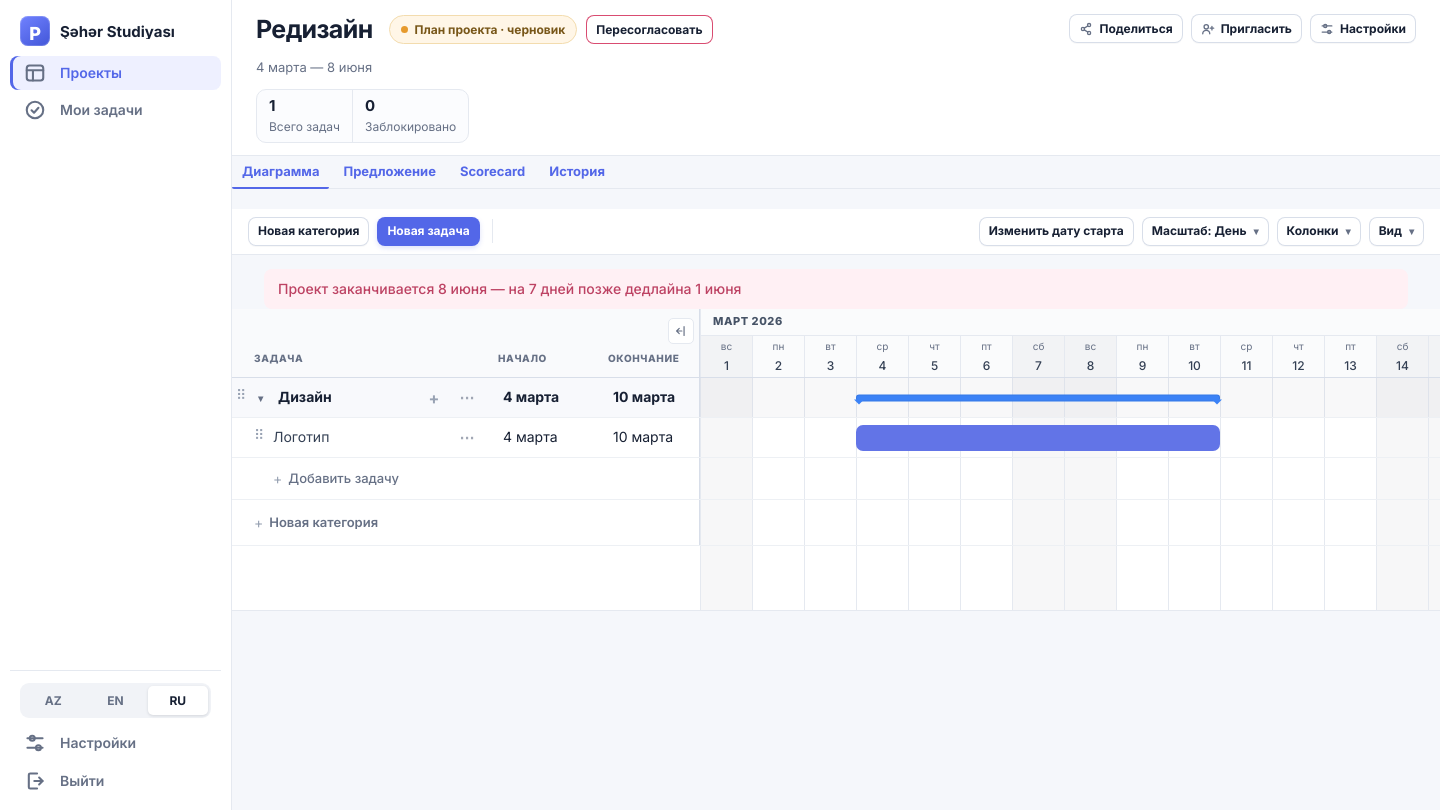
создание категории › отправляет операцию создания категории и обновляет диаграмму
The image size is (1440, 810).
Click the button "Новая категория": (309,231) [248,217,369,246]
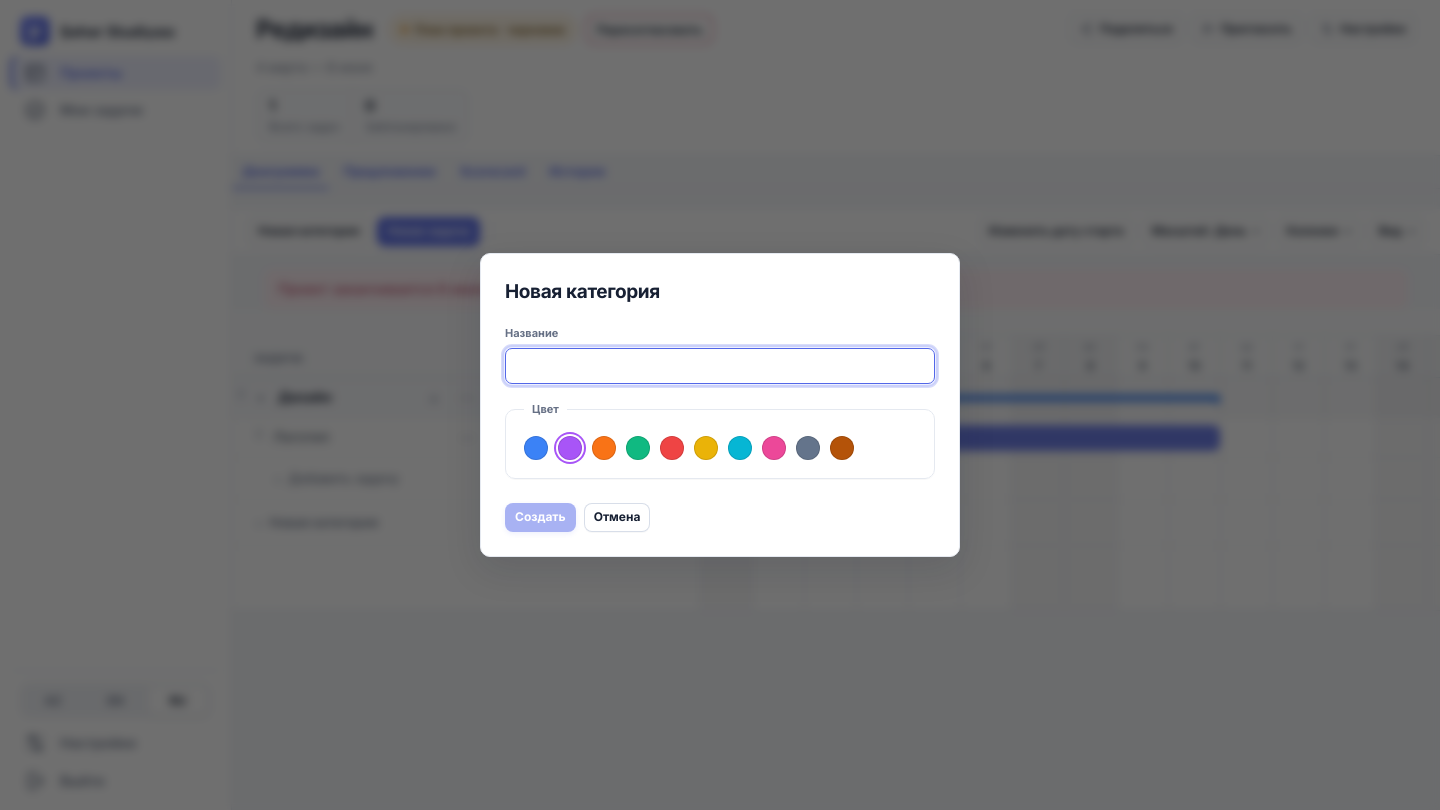
In the field labelled "Название": (720,366) [505,348,935,384], type "Аналитика"
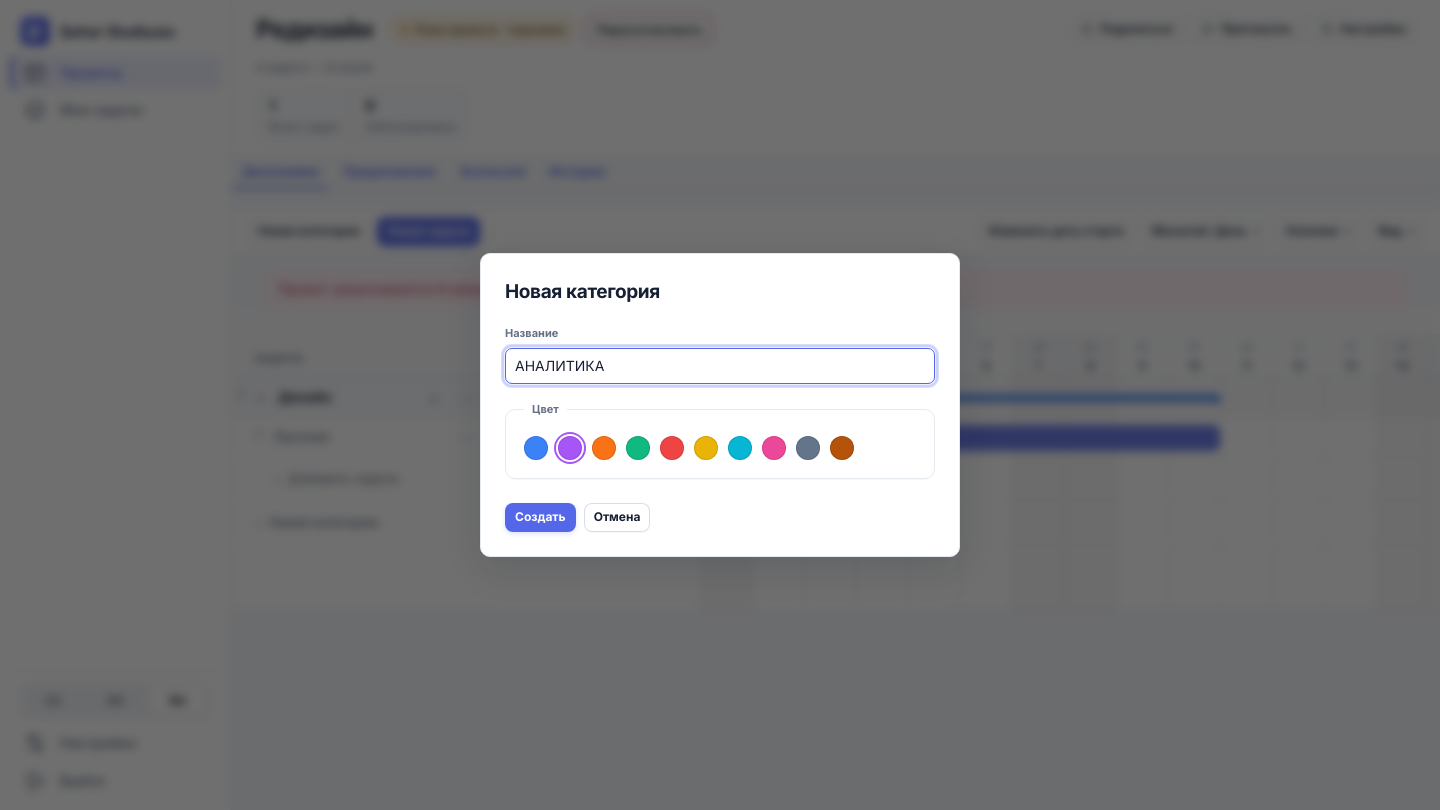
Click the button "Создать": (540,517) [505,503,576,532]
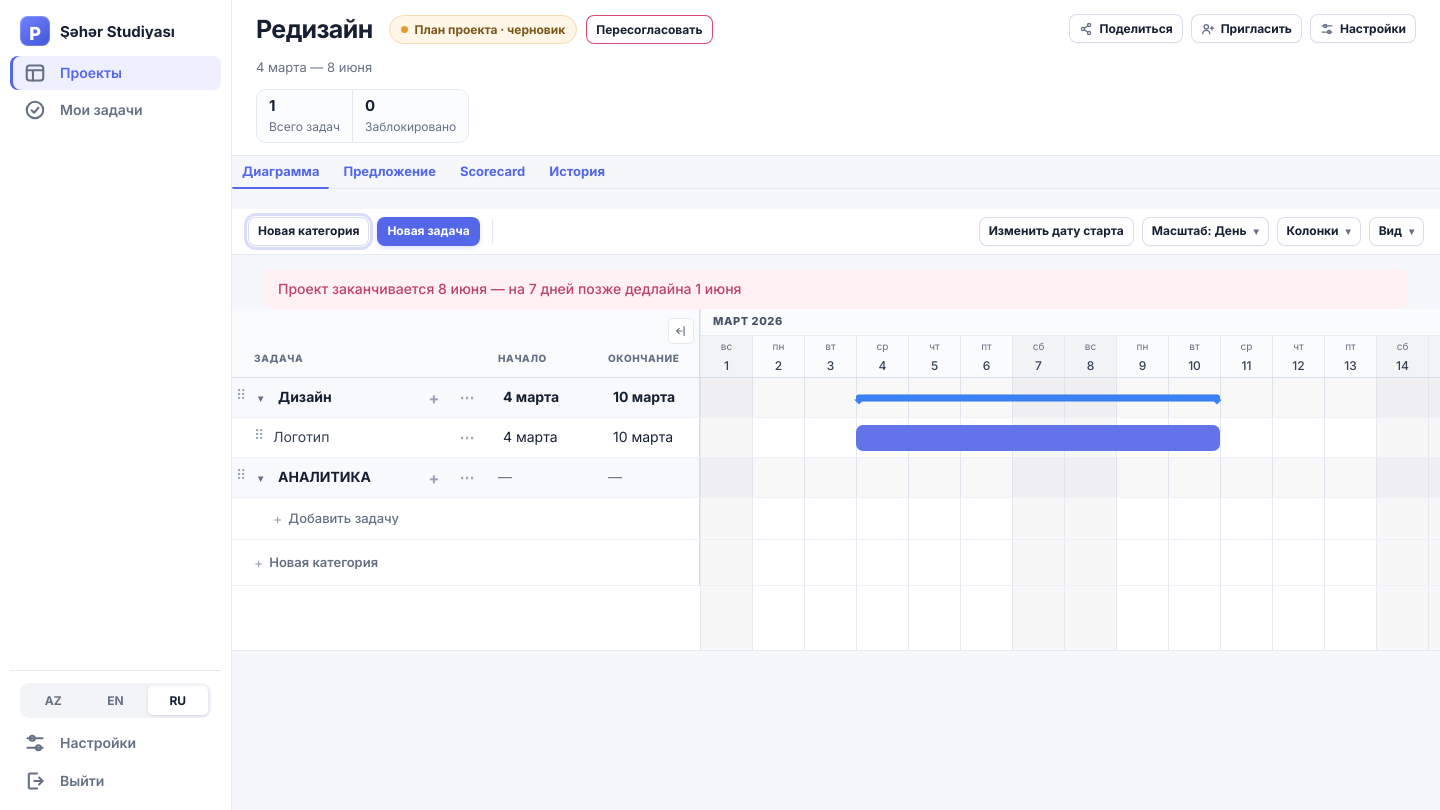
Result: the text "АНАЛИТИКА" is shown at [278,468,371,485]
